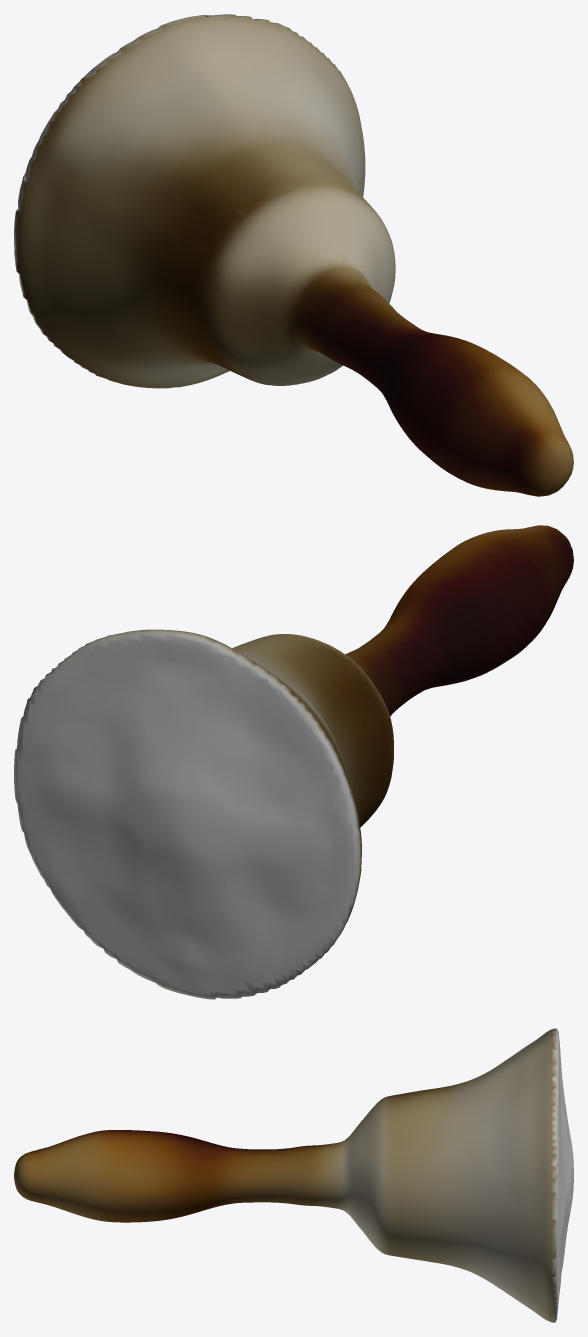
Rendered from bell.glb.
The picture shows the model from 3 angles, top to bottom: view 1: azimuth 30°, elevation 25°; view 2: azimuth 150°, elevation 25°; view 3: azimuth 270°, elevation 25°; orthographic projection. The views are drawn at different scales.
Size of the model in its own units: 0.5255 by 0.526 by 0.9998.
